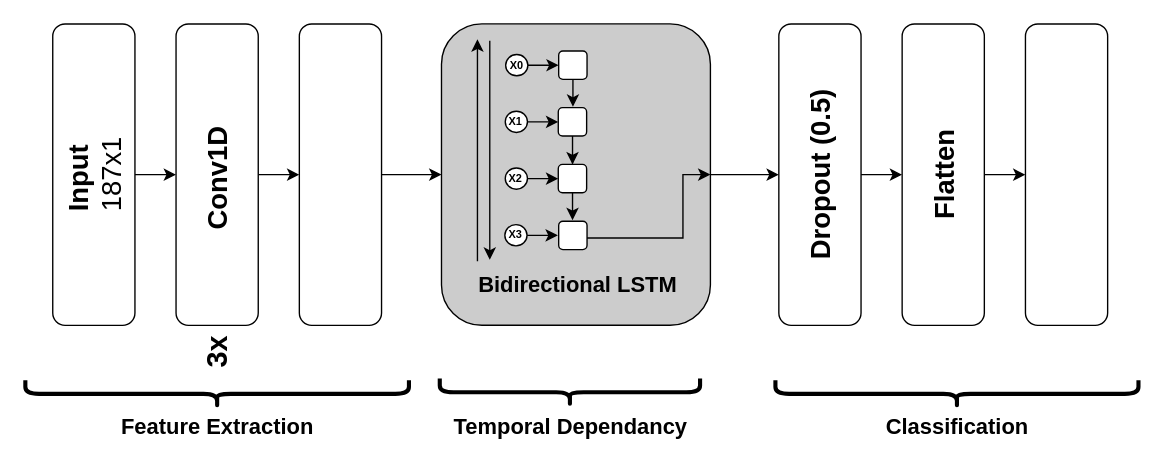
This 1165x471 diagram has some shape labels left out. The box of each missing label's shape, as (x1, y1, x2, y2) in pixels:
Dense (5 class): (1024, 23, 1108, 325)
Max-pooling: (298, 23, 382, 325)
